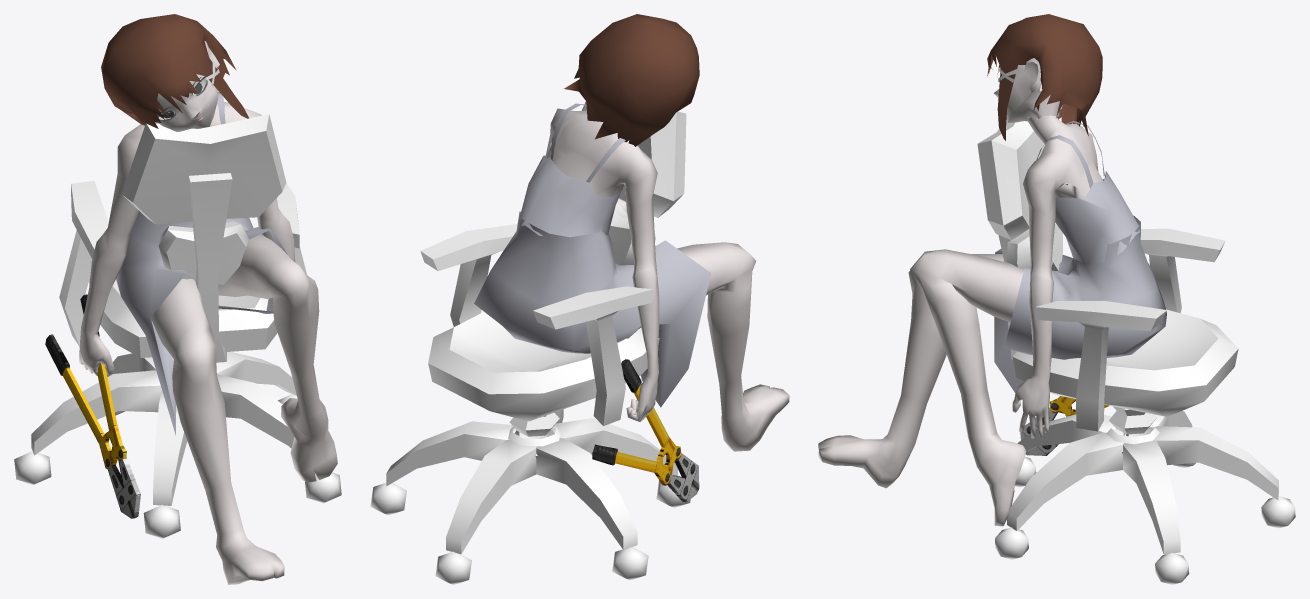
File: lain.glb
3 views of the same model, side by side, from view 1: azimuth 30°, elevation 25°; view 2: azimuth 150°, elevation 25°; view 3: azimuth 270°, elevation 25° (orthographic). The views are drawn at different scales.
Visible parts, largest first — view 1: chair_web, torso_001_lain_web, hair_001_lain_web, torso_001_lain.001_web, boltcutter_web, head_lain_web; view 2: chair_web, torso_001_lain_web, torso_001_lain.001_web, hair_001_lain_web, Camisole_web, boltcutter_web; view 3: chair_web, torso_001_lain_web, torso_001_lain.001_web, hair_001_lain_web, Camisole_web, head_lain_web, boltcutter_web.
Boxes of the visible parts, x1,y1,x2,y2 form: chair_web: (14,114,341,538); torso_001_lain_web: (79,101,337,584); hair_001_lain_web: (101,14,248,128); torso_001_lain.001_web: (116,211,287,435); boltcutter_web: (45,294,140,518); head_lain_web: (155,41,219,131); chair_web: (370,101,690,584); torso_001_lain_web: (545,108,789,451); torso_001_lain.001_web: (474,211,711,407); hair_001_lain_web: (564,14,699,146); Camisole_web: (517,103,625,237); boltcutter_web: (592,359,699,502); chair_web: (977,121,1295,584); torso_001_lain_web: (818,115,1103,526); torso_001_lain.001_web: (994,215,1166,392); hair_001_lain_web: (987,14,1102,140); Camisole_web: (1036,121,1139,265); head_lain_web: (993,58,1062,122); boltcutter_web: (1020,396,1109,455).
Size of the model in its own units: 0.1627 by 0.2754 by 0.249.
10 materials, 2 textured.
